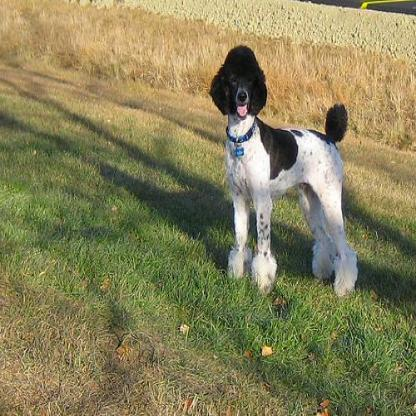standard_poodle: (204, 41, 357, 306)
